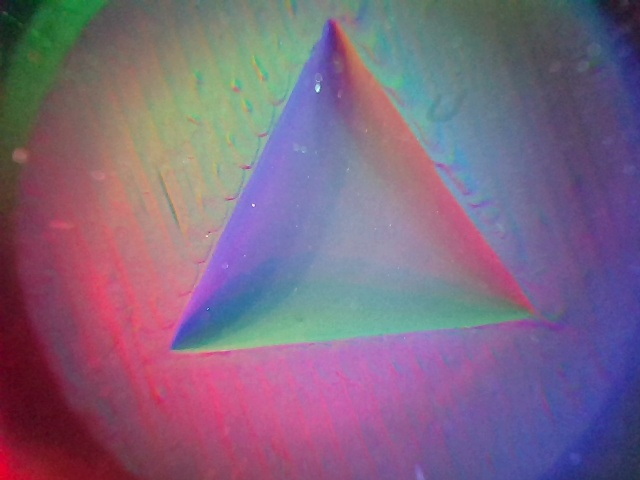contact: (174, 21, 533, 349)
